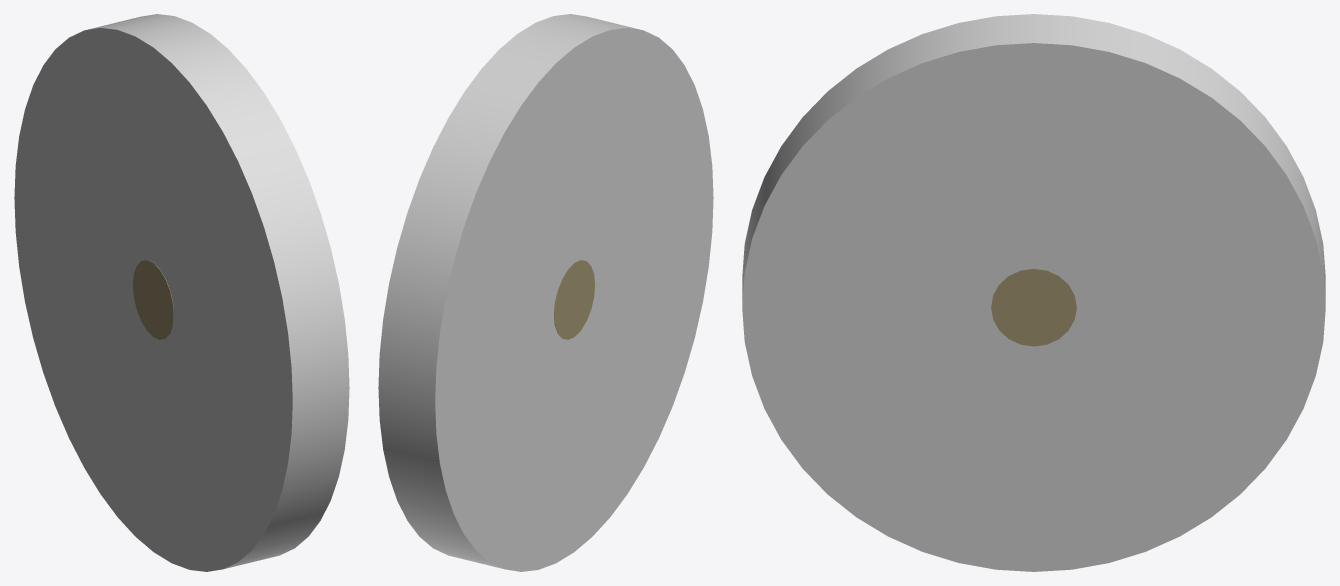
Rendered from plate.glb.
3 views of the same model, side by side, from view 1: azimuth 30°, elevation 25°; view 2: azimuth 150°, elevation 25°; view 3: azimuth 270°, elevation 25° (orthographic). The views are drawn at different scales.
Parts seen in each view (by area): view 1: plate-shell, hub; view 2: plate-shell, hub; view 3: plate-shell, hub.
Part boxes in pixels (bbox=[...]): plate-shell: bbox=[14, 14, 349, 571]; hub: bbox=[133, 260, 173, 339]; plate-shell: bbox=[378, 14, 713, 571]; hub: bbox=[554, 260, 594, 339]; plate-shell: bbox=[742, 14, 1325, 571]; hub: bbox=[991, 268, 1076, 346].
Size of the model in its own units: 0.081 by 0.68 by 0.68.
